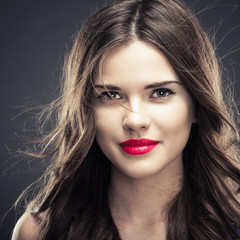teen: (58, 12, 201, 190)
